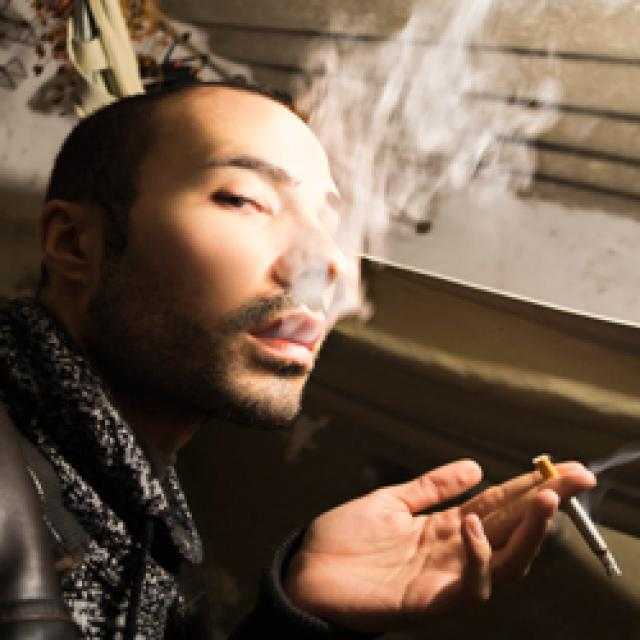Smooking: (531, 450, 631, 588)
